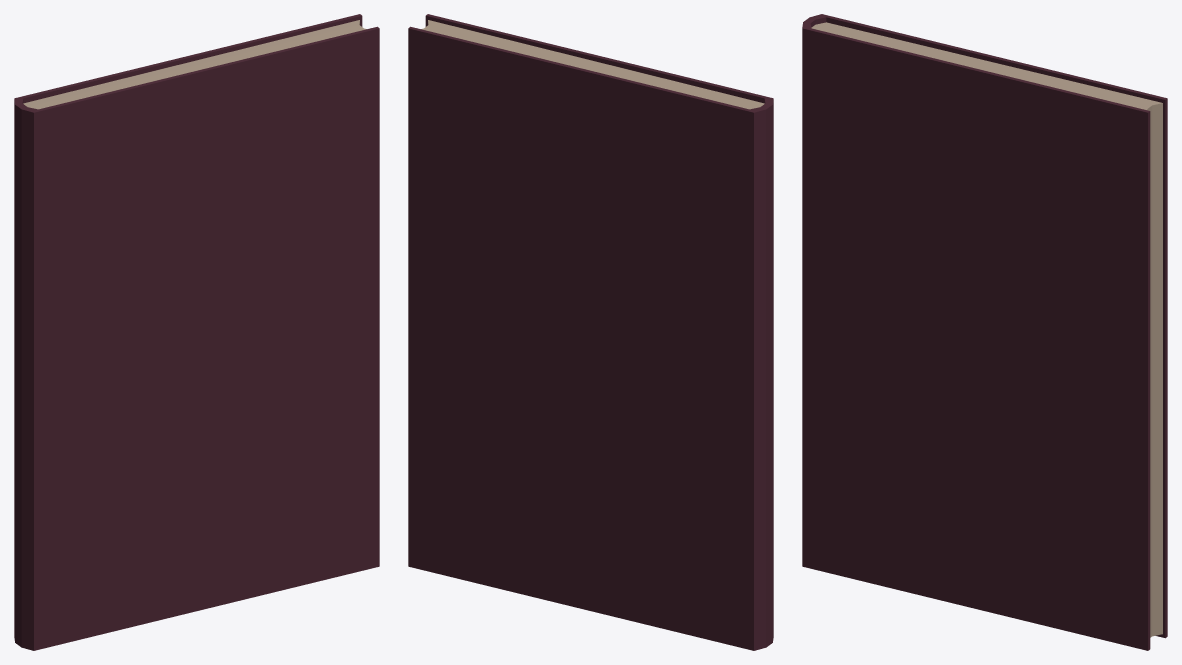
File: book.colored.fbx
3 renders of one model, left to right at view 1: azimuth 30°, elevation 25°; view 2: azimuth 150°, elevation 25°; view 3: azimuth 330°, elevation 25°, orthographic.
Parts seen in each view (by area): view 1: Cube; view 2: Cube; view 3: Cube.
Part boxes in pixels (<box>): Cube: <box>14,14,379,650</box>; Cube: <box>408,14,773,650</box>; Cube: <box>802,14,1167,650</box>.
Bounding box in the file's own units: 203 × 297 × 19.68.
